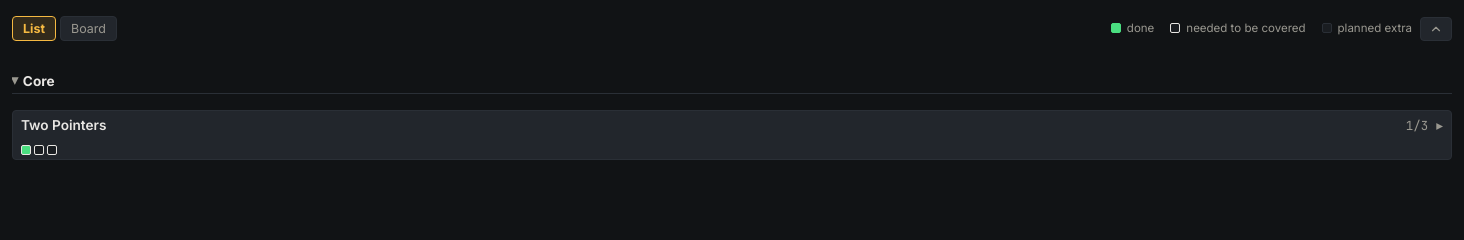
Test case: TechniqueListComponent › renders a GitHub fallback link for a problem with no walkthrough route but a `file`, when a repo ref is set
What coordinates should you click on to do the following:
click the button with class "tech-row__toggle"
I would click on:
 (64, 125)
Its box is [13,111,1451,159].
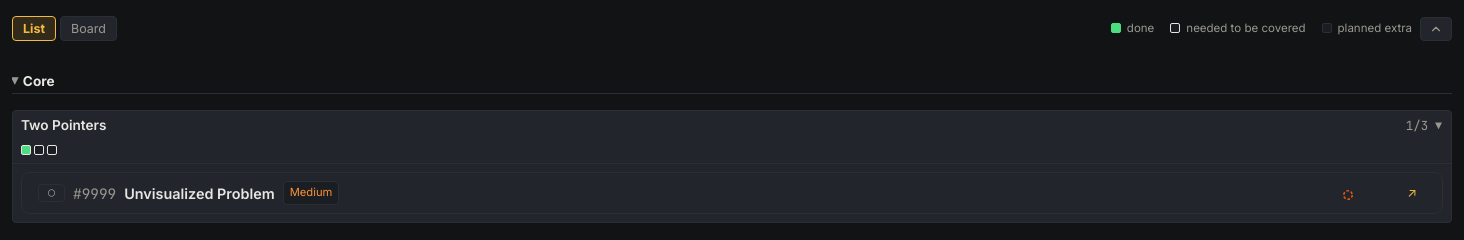
Check: the link with class "tech-row__problem-status--github" is shown, box [38,184,65,202]
